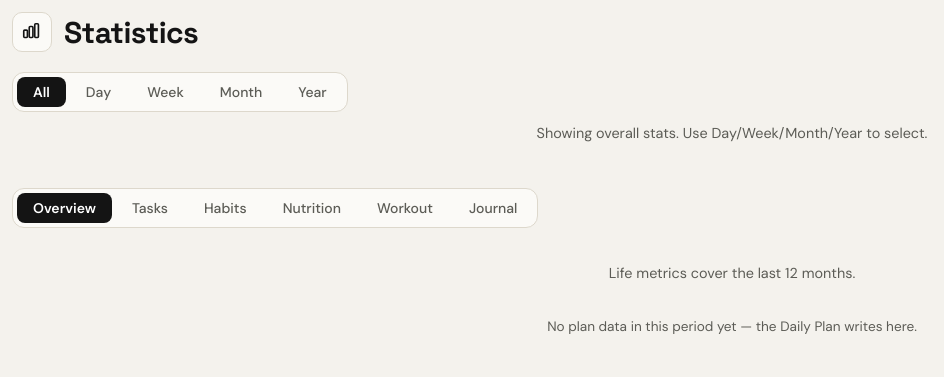
Scenario: StatisticsView (server mode) › saves the week-start preference via PUT /me/settings {layout:{weekStart}}
Click the tab "Week".
click(166, 92)  # box [131,77,200,107]
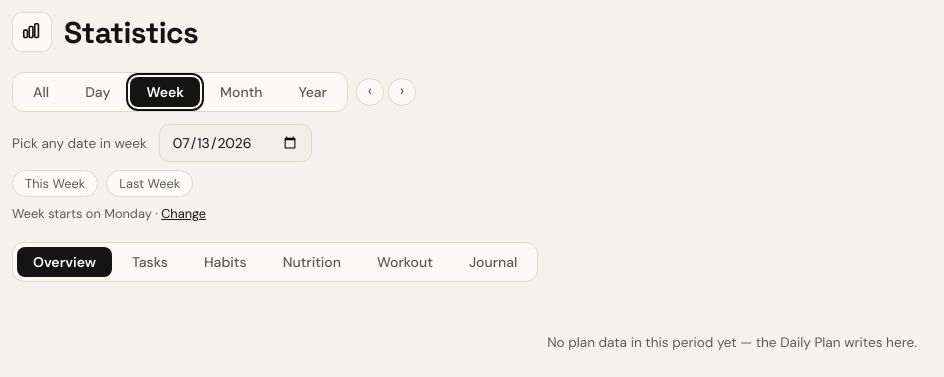
Click the button "Change".
click(184, 214)  # box [161,205,206,222]
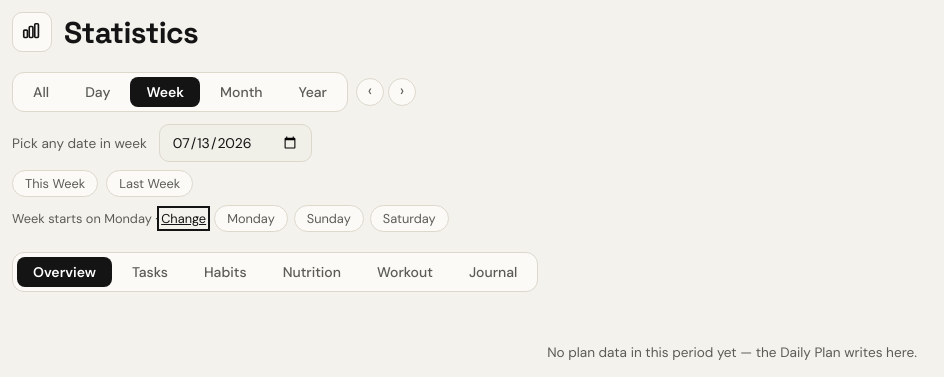
Click the button "Sunday".
click(329, 218)  # box [294,205,364,232]
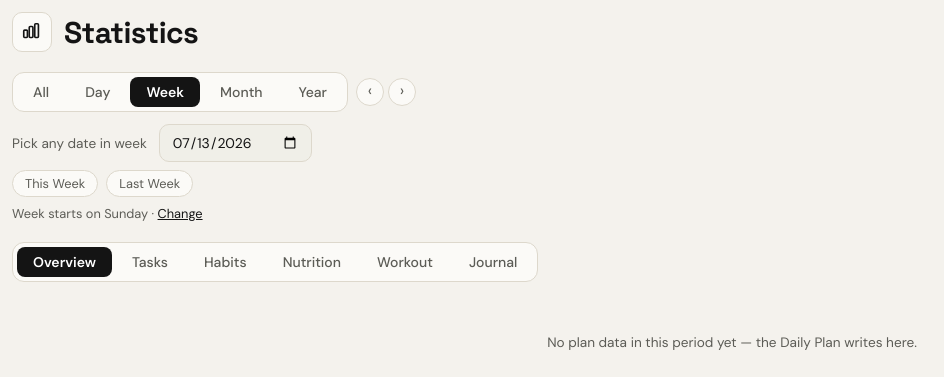
Expected: the text "Week starts on Sunday · Change" is shown, [12,205,202,222]
